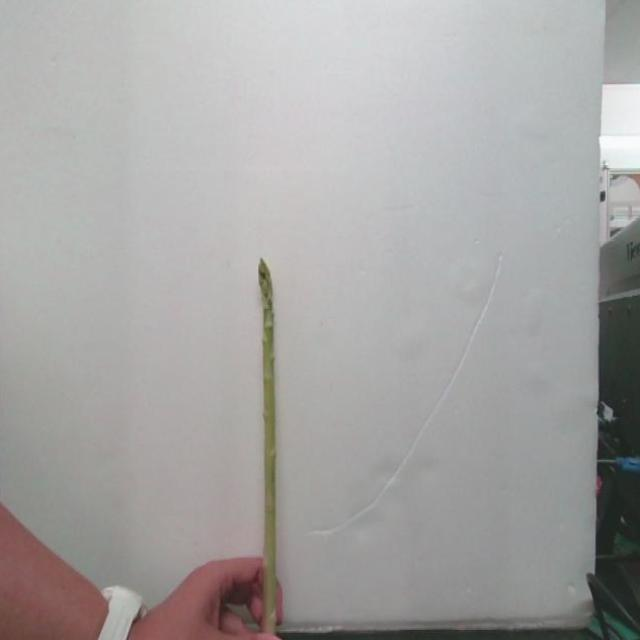aspargus: (257, 260, 279, 632)
